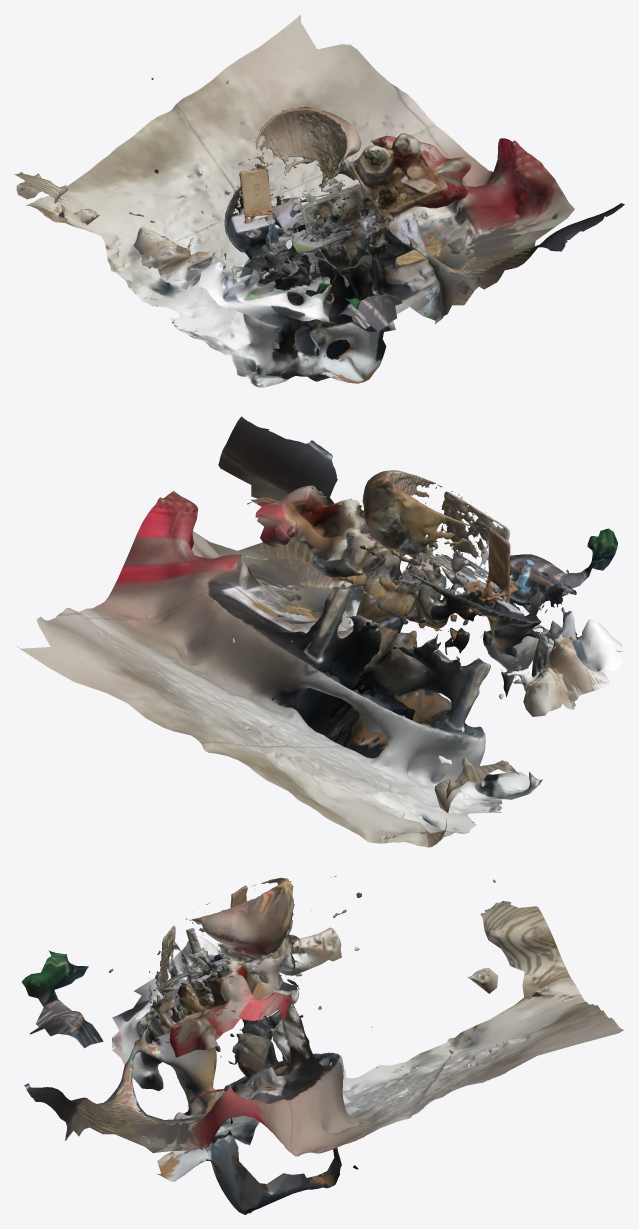
The model's file is cadmio.GLB.
3 views of the same model, one above another, from view 1: azimuth 30°, elevation 25°; view 2: azimuth 150°, elevation 25°; view 3: azimuth 270°, elevation 25° (orthographic). The views are drawn at different scales.
Visible parts, largest first — view 1: defaultobject; view 2: defaultobject; view 3: defaultobject.
Part boxes in pixels (box(x1,y1,x2,y2)): defaultobject: box(14, 14, 624, 387); defaultobject: box(16, 416, 623, 847); defaultobject: box(21, 876, 624, 1214).
Bounding box in the file's own units: 2.07 × 1.27 × 2.23.
Materials: 1 (1 with a texture image).
